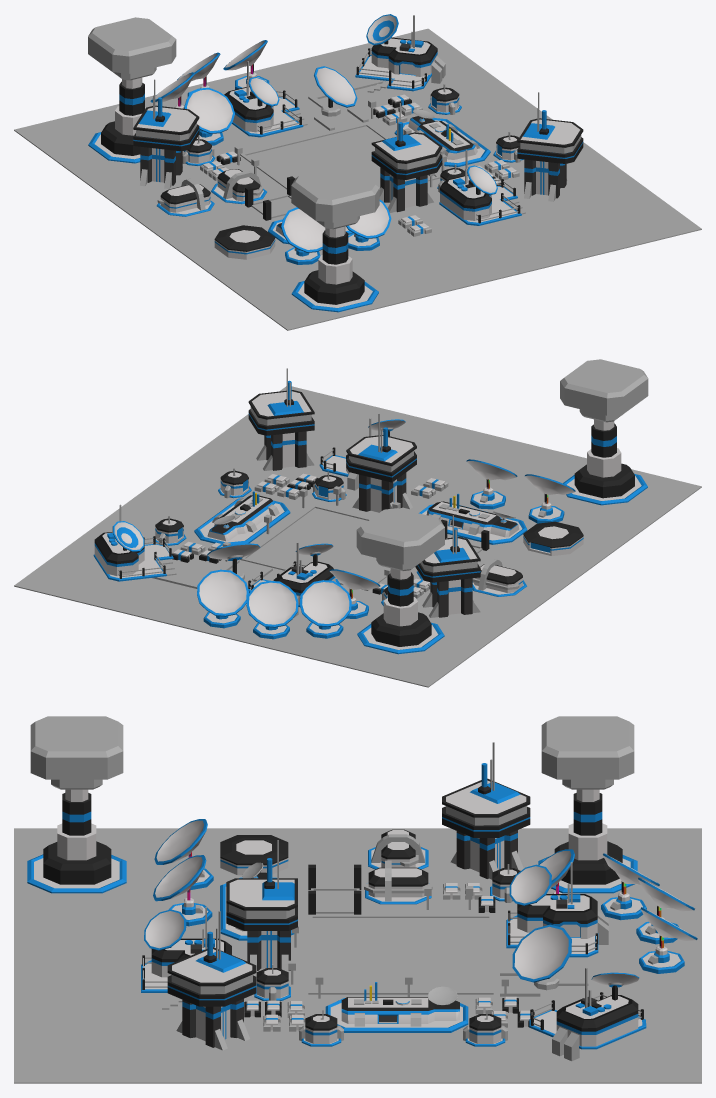
3 views of the same model, one above another, from view 1: azimuth 30°, elevation 25°; view 2: azimuth 150°, elevation 25°; view 3: azimuth 270°, elevation 25° (orthographic). The views are drawn at different scales.
Visible parts, largest first — view 1: Ground, pCube103 (×2), pCube22 (×5), pCube26 (×2), pCube39 (×2), pCube102 (×2), pCube25 (×2), pCylinder1 (×3), pCube101 (×2), CommunicationCenter:pCube26, pCube34 (×2), pCube86 (+10 smaller); view 2: Ground, pCube103 (×2), pCube22 (×6), pCube26 (×2), pCube102 (×2), pCube25 (×2), pCube101 (×2), pCube1 (×2), CommunicationCenter:pCube26, pCube87 (×2), pCube100 (×2), pCube86 (+8 smaller); view 3: Ground, pCube103 (×2), pCube26 (×2), pCube22 (×6), pCube102 (×2), pCube25 (×2), pCube39 (×2), pCylinder1 (×2), pCube101 (×2), CommunicationCenter:pCube26, pCube10 (×3), pCube100 (×2) (+13 smaller).
Part boxes in pixels (x1,y1,x2,y2): Ground: (14, 28, 701, 330); pCube103 (×2): (88, 17, 379, 229); pCube22 (×5): (150, 40, 391, 252); pCube26 (×2): (133, 105, 583, 163); pCube39 (×2): (371, 37, 491, 220); pCube102 (×2): (115, 77, 352, 284); pCube25 (×2): (140, 146, 566, 198); pCylinder1 (×3): (314, 14, 497, 194); pCube101 (×2): (101, 121, 364, 304); CommunicationCenter:pCube26: (371, 132, 442, 179); pCube34 (×2): (355, 55, 521, 225); pCube86: (214, 225, 275, 259); Ground: (14, 386, 701, 687); pCube103 (×2): (356, 359, 648, 570); pCube22 (×6): (197, 459, 575, 627); pCube26 (×2): (248, 390, 480, 582); pCube102 (×2): (383, 419, 621, 626); pCube25 (×2): (264, 431, 472, 617); pCube101 (×2): (371, 463, 634, 646); pCube1 (×2): (207, 495, 519, 541); CommunicationCenter:pCube26: (346, 435, 416, 482); pCube87 (×2): (194, 497, 527, 544); pCube100 (×2): (357, 473, 647, 654); pCube86: (523, 521, 583, 555); Ground: (14, 828, 701, 1083); pCube103 (×2): (30, 716, 634, 789); pCube26 (×2): (167, 778, 530, 1006); pCube22 (×6): (153, 819, 697, 940); pCube102 (×2): (57, 789, 607, 860); pCube25 (×2): (182, 830, 517, 1047); pCube39 (×2): (151, 938, 638, 1046); pCylinder1 (×2): (144, 909, 571, 982); pCube101 (×2): (43, 841, 622, 884); CommunicationCenter:pCube26: (226, 878, 297, 930); pCube10 (×3): (256, 968, 501, 1043); pCube100 (×2): (27, 854, 637, 893).
Bounding box in the file's own units: 80.43 × 21.88 × 92.
